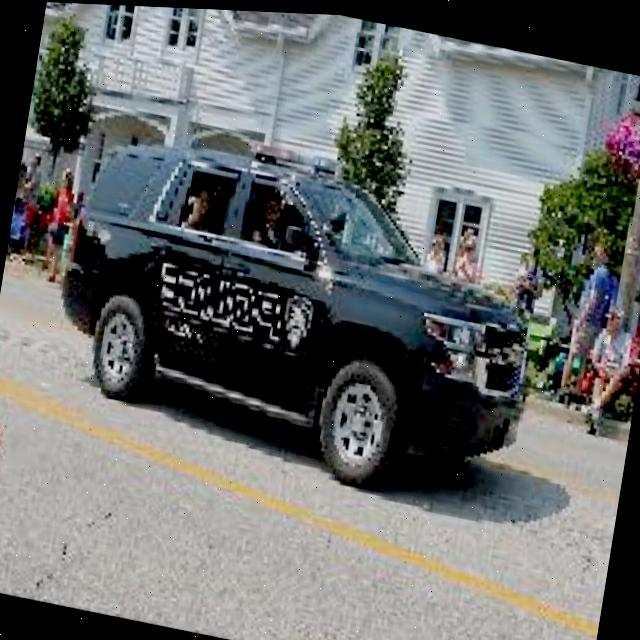emergency: (39, 103, 564, 514)
